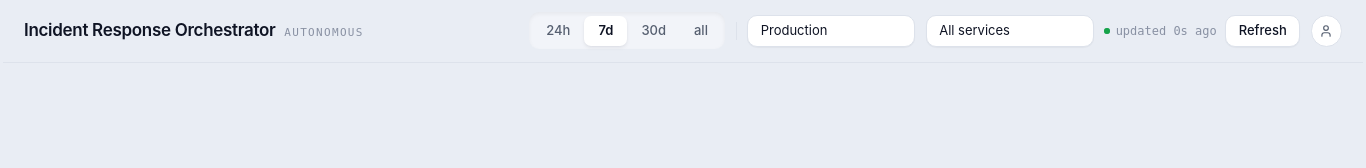
it: DashboardHeader › lets more than one environment be selected at once (FR-002)
This screenshot has width=1366, height=168.
Click the button with aria-label "environment": (831, 31) [747,15,915,46]
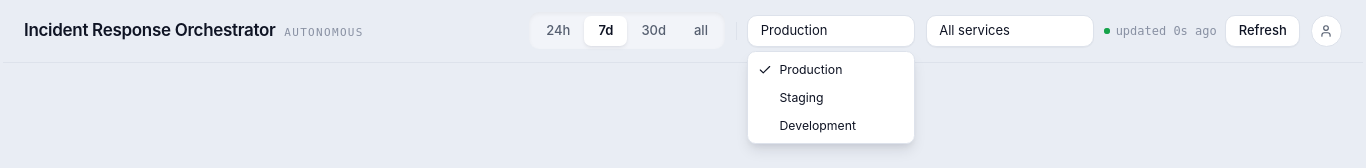
Click the menu item "Staging": (802, 97) [780,90,824,105]
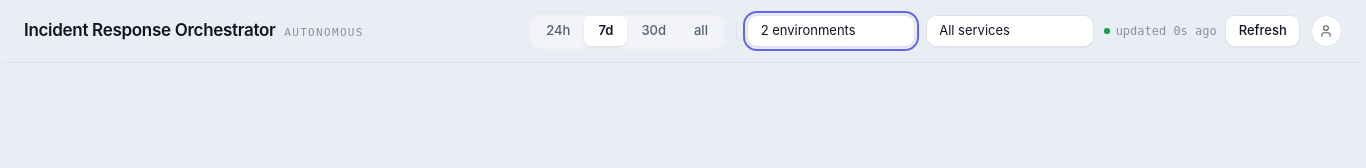
Now the button "2 environments" is shown, box [747,15,915,46]
